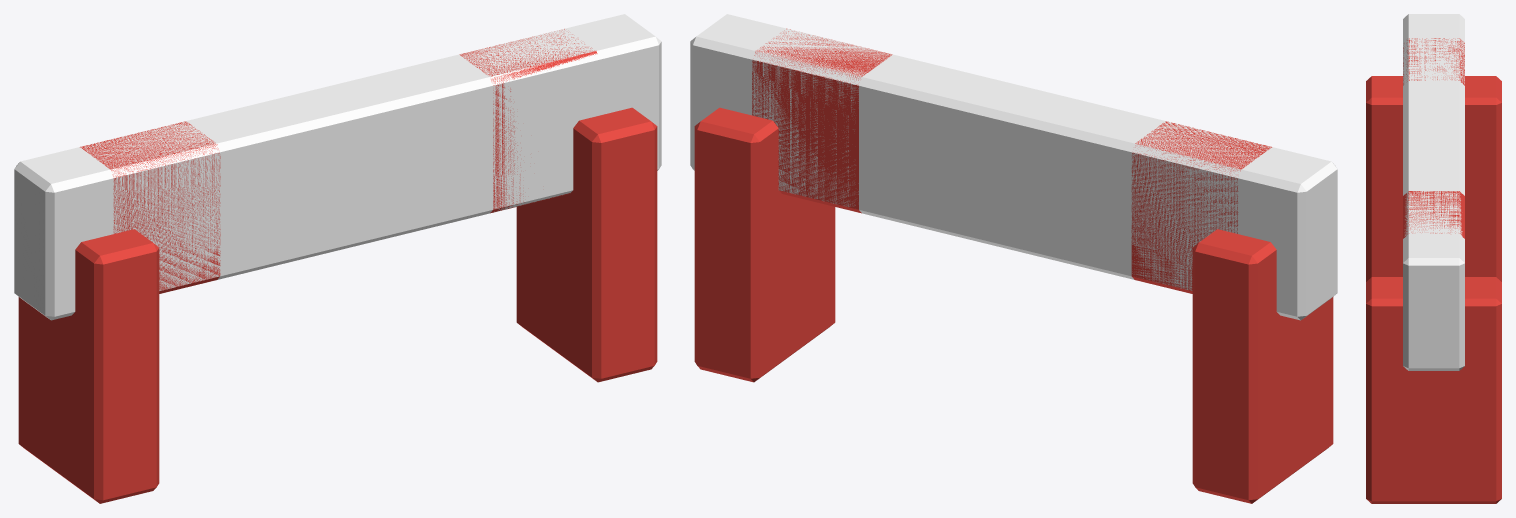
The model's file is traffic_barrier.glb.
The picture shows the model from 3 angles, left to right: view 1: azimuth 30°, elevation 25°; view 2: azimuth 150°, elevation 25°; view 3: azimuth 270°, elevation 25°; orthographic projection. The views are drawn at different scales.
Visible parts, largest first — view 1: traffic_barrier; view 2: traffic_barrier; view 3: traffic_barrier.
Part boxes in pixels (x1,y1,x2,y2): traffic_barrier: (14, 14, 661, 503); traffic_barrier: (690, 14, 1337, 503); traffic_barrier: (1366, 14, 1501, 503).
Size of the model in its own units: 0.52 by 0.25 by 0.12.
